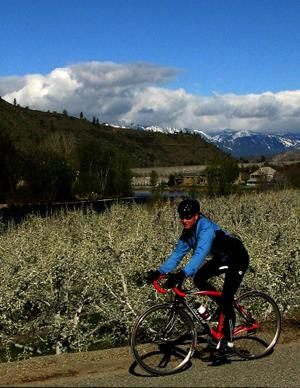person: (149, 199, 250, 357)
